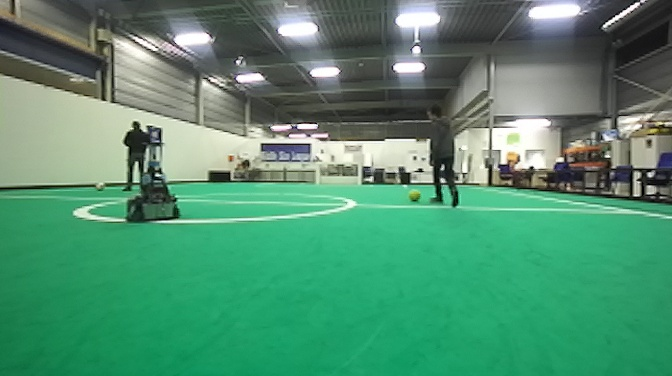ball: (405, 188, 422, 203), (94, 181, 104, 192)
goal: (314, 159, 362, 184)
goalpost: (314, 159, 320, 186), (355, 160, 361, 186)
human: (424, 102, 461, 211), (123, 119, 148, 193)
robot: (124, 140, 184, 225)
